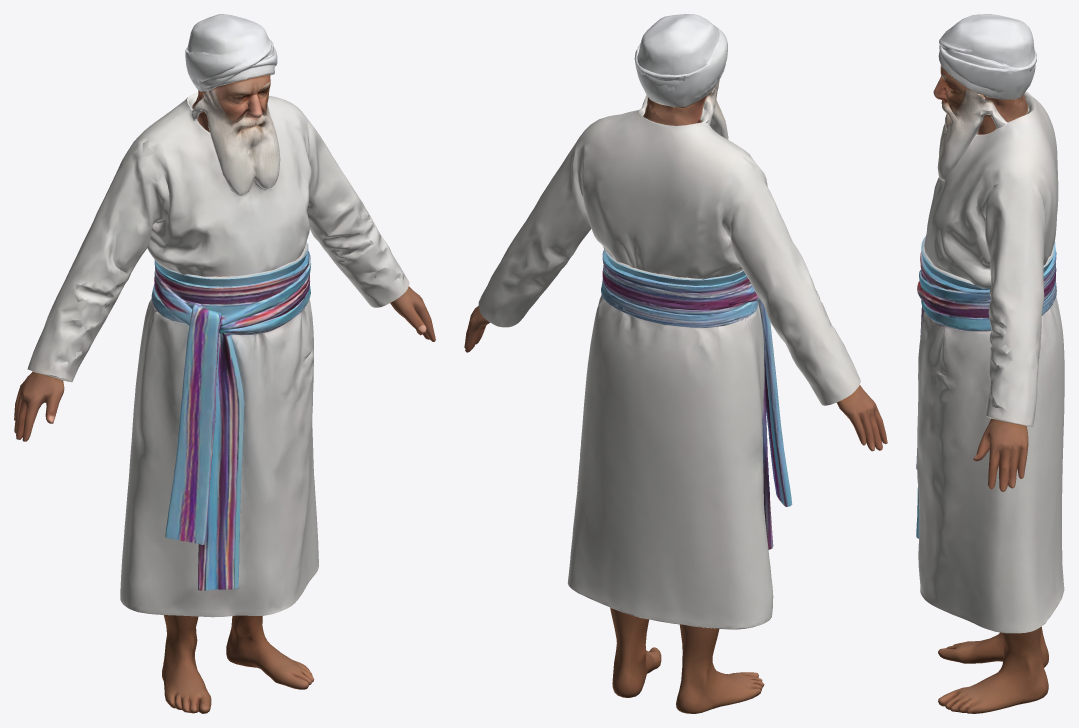
The model's file is cohen_7.glb.
The picture shows the model from 3 angles, left to right: view 1: azimuth 30°, elevation 25°; view 2: azimuth 150°, elevation 25°; view 3: azimuth 270°, elevation 25°; orthographic projection.
Parts seen in each view (by area): view 1: Mesh; view 2: Mesh; view 3: Mesh.
Boxes of the visible parts, left/top/right/bottom form: Mesh: left=14, top=14, right=435, bottom=713; Mesh: left=464, top=14, right=887, bottom=713; Mesh: left=916, top=14, right=1064, bottom=713.
Size of the model in its own units: 1.24 by 1.9 by 0.3853.
1 material, 1 textured.
